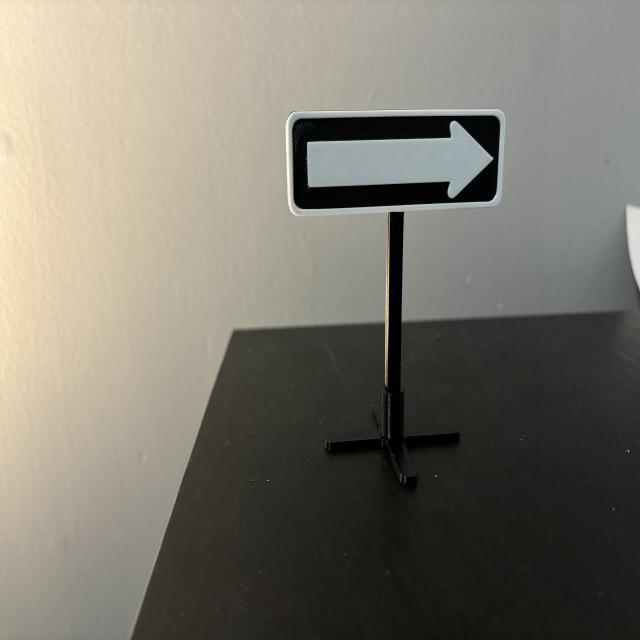sign_oneway_right: (287, 111, 506, 217)
